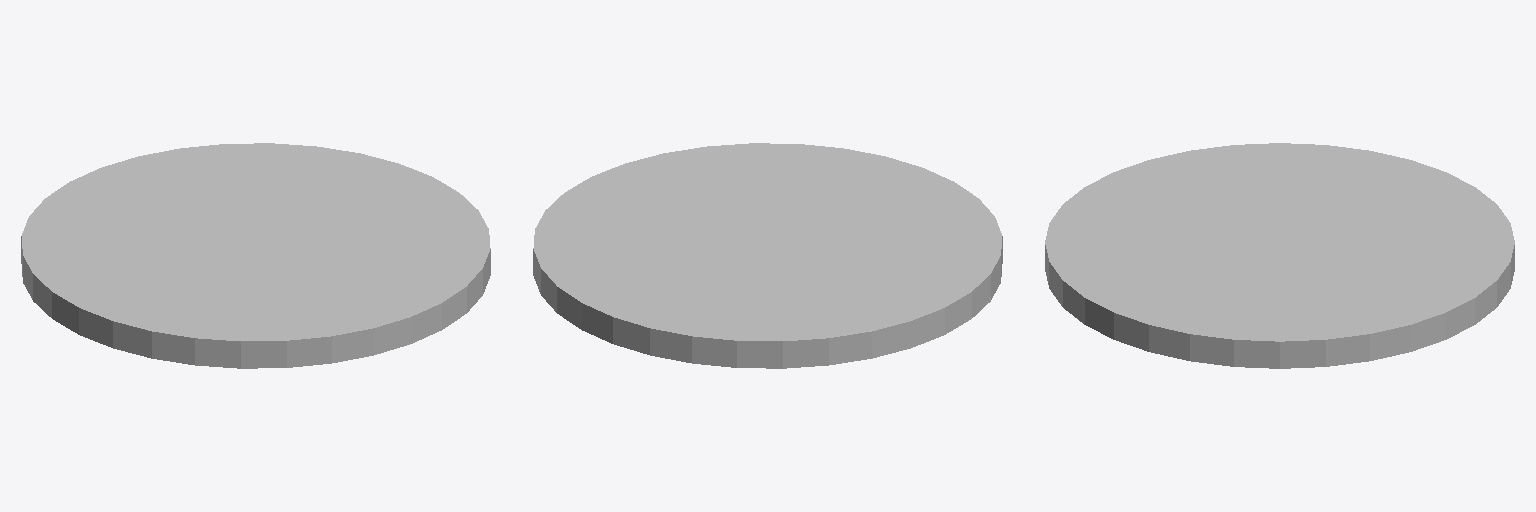
The model's file is LCollider.obj.
3 views of the same model, side by side, from view 1: azimuth 30°, elevation 25°; view 2: azimuth 150°, elevation 25°; view 3: azimuth 270°, elevation 25° (orthographic).
Parts seen in each view (by area): view 1: Cylinder; view 2: Cylinder; view 3: Cylinder.
Part boxes in pixels (left/top/right/bottom): Cylinder: left=21, top=143, right=490, bottom=368; Cylinder: left=533, top=143, right=1002, bottom=368; Cylinder: left=1045, top=143, right=1514, bottom=368.
Bounding box in the file's own units: 2.88 × 0.1841 × 2.88.